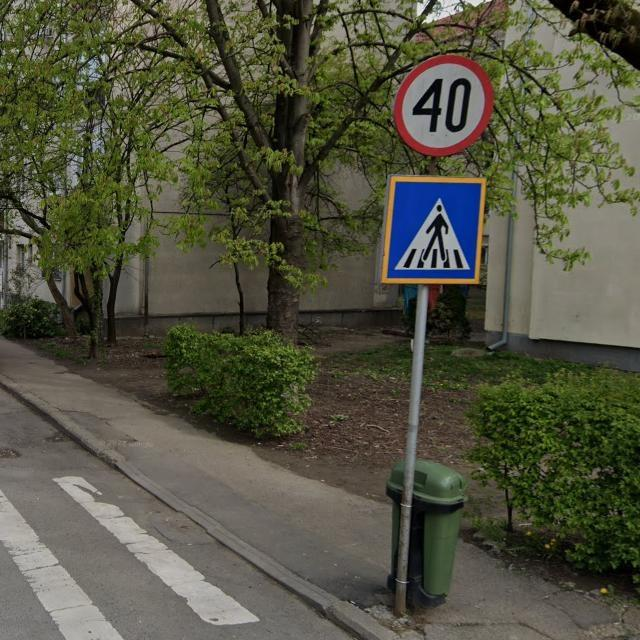forb_speed_over_40: (394, 53, 495, 156)
info_crosswalk: (380, 176, 487, 283)
